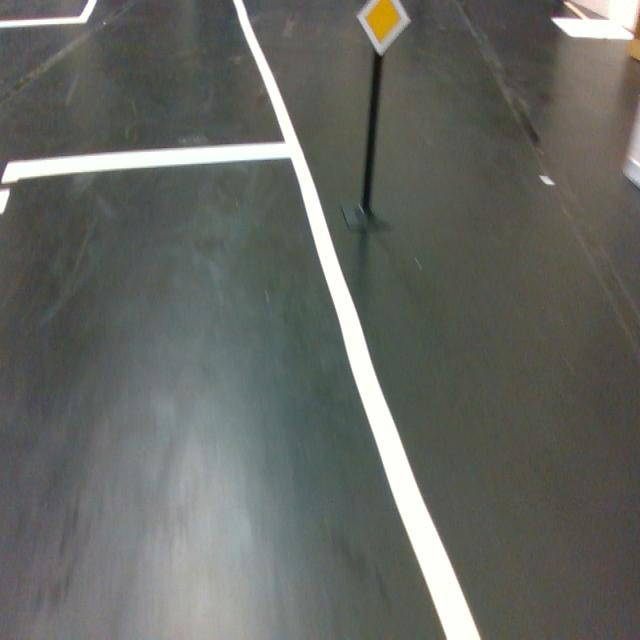priority-sign: (354, 0, 412, 58)
